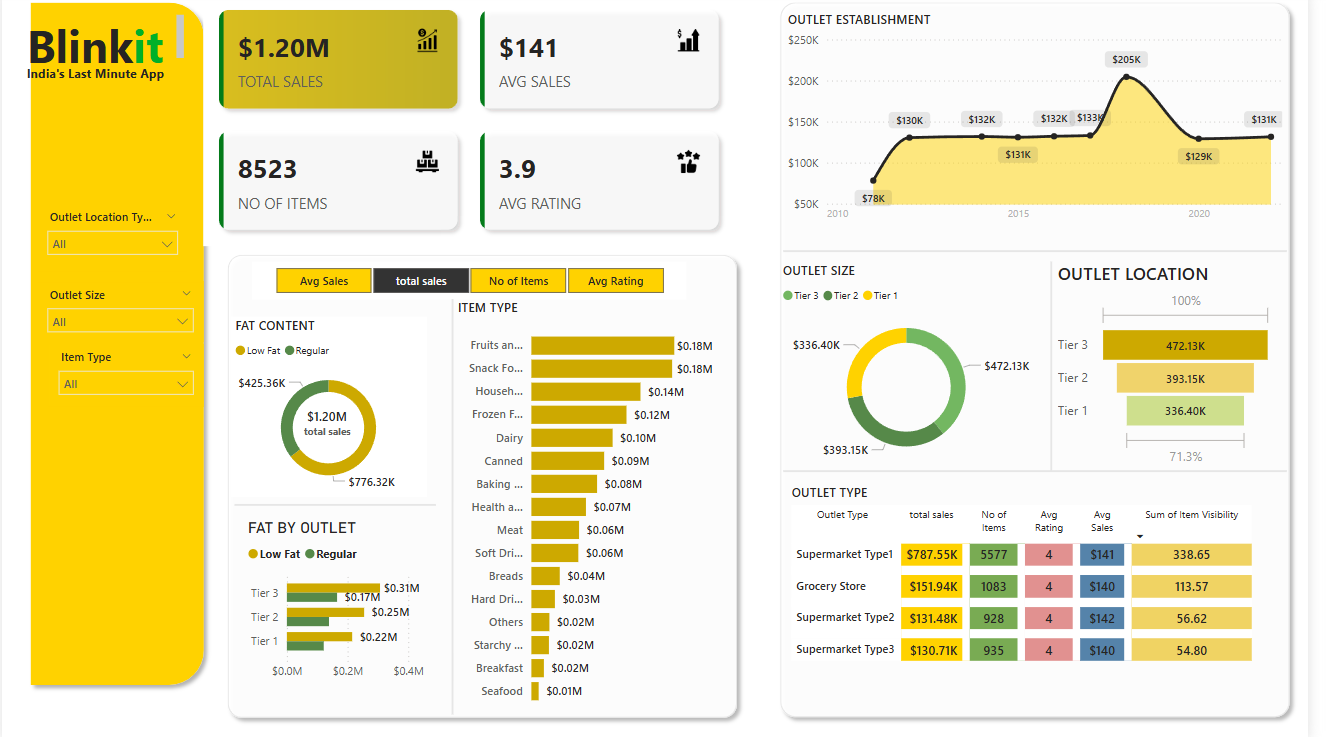

The dashboard page shown, as its layout file describes it:
{"tool":"powerbi","page":{"name":"Page 1","canvas":[1400,800],"ordinal":0},"visuals":[{"type":"shape","box":[21,0,204.1,750.4],"z":0},{"type":"textbox","box":[21,18,178.6,64.5],"z":1000},{"type":"textbox","box":[21,70.5,162.1,64.5],"z":2000},{"type":"cardVisual","fields":{"Data":["BlinkIT Grocery Data.total sales","BlinkIT Grocery Data.Avg Sales","BlinkIT Grocery Data.No of Items","BlinkIT Grocery Data.Avg Rating"]},"box":[216.1,0,570.3,270.2],"z":3000},{"type":"shape","box":[232.6,270.2,564.3,514.8],"z":4000},{"type":"donutChart","title":"FAT CONTENT","fields":{"Y":["BlinkIT Grocery Data.total sales"],"Category":["BlinkIT Grocery Data.Item Fat Content"]},"box":[244.6,345.2,210.1,193.6],"z":5000},{"type":"slicer","fields":{"Values":["Metrics.Metrics"]},"box":[268.7,286.7,465.3,40.5],"z":6000},{"type":"cardVisual","fields":{"Data":["BlinkIT Grocery Data.total sales"]},"box":[288.2,418.7,121.6,82.5],"z":7000},{"type":"clusteredBarChart","title":"FAT BY OUTLET","fields":{"Y":["BlinkIT Grocery Data.total sales"],"Category":["BlinkIT Grocery Data.Outlet Location Type"],"Series":["BlinkIT Grocery Data.Item Fat Content"]},"box":[258.1,561.3,211.6,183.1],"z":8000},{"type":"shape","box":[249.1,525.3,216.1,45],"z":9000},{"type":"shape","box":[465.3,327.2,36,445.8],"z":10000},{"type":"barChart","title":"ITEM TYPE","fields":{"Y":["BlinkIT Grocery Data.total sales"],"Category":["BlinkIT Grocery Data.Item Type"]},"box":[483.3,327.2,283.7,445.8],"z":11000},{"type":"shape","box":[825.5,0,564.3,785],"z":12000},{"type":"lineChart","title":"OUTLET ESTABLISHMENT","fields":{"Y":["BlinkIT Grocery Data.total sales"],"Category":["BlinkIT Grocery Data.Outlet Establishment Year"]},"box":[837.5,18,540.3,235.6],"z":13000},{"type":"shape","box":[837.5,253.6,540.3,45],"z":14000},{"type":"donutChart","title":"OUTLET SIZE","fields":{"Y":["BlinkIT Grocery Data.total sales"],"Category":["BlinkIT Grocery Data.Outlet Location Type"]},"box":[833,286.7,274.7,225.1],"z":15000},{"type":"shape","box":[1107.6,286.7,36,225.1],"z":16000},{"type":"funnel","title":"OUTLET LOCATION","fields":{"Y":["Sum(BlinkIT Grocery Data.Sales)"],"Category":["BlinkIT Grocery Data.Outlet Location Type"]},"box":[1127.1,286.7,240.1,225.1],"z":17000},{"type":"pivotTable","title":"OUTLET TYPE","fields":{"Values":["BlinkIT Grocery Data.total sales","BlinkIT Grocery Data.No of Items","BlinkIT Grocery Data.Avg Rating","BlinkIT Grocery Data.Avg Sales","Sum(BlinkIT Grocery Data.Item Visibility)"],"Rows":["BlinkIT Grocery Data.Outlet Type"]},"box":[842,525.3,531.3,244.6],"z":18000},{"type":"shape","box":[837.5,489.3,540.3,45],"z":19000},{"type":"slicer","fields":{"Values":["BlinkIT Grocery Data.Outlet Location Type"]},"box":[37.5,225.1,162.1,73.5],"z":20000},{"type":"slicer","fields":{"Values":["BlinkIT Grocery Data.Outlet Size"]},"box":[37.5,307.7,178.6,64.5],"z":20001},{"type":"slicer","fields":{"Values":["BlinkIT Grocery Data.Item Type"]},"box":[49.5,375.2,166.6,67.5],"z":20002}]}

Visuals, with their boxes in screenshot pixels (x1, y1, x2, y2), scaled from the page's 1400x800 canvas onto the 1326x737 screenshot:
shape: rect(20, 0, 213, 691)
textbox: rect(20, 17, 189, 76)
textbox: rect(20, 65, 173, 124)
cardVisual - BlinkIT Grocery Data.total sales x BlinkIT Grocery Data.Avg Sales: rect(205, 0, 745, 249)
shape: rect(220, 249, 755, 723)
"FAT CONTENT" donutChart: rect(232, 318, 431, 496)
slicer - Metrics.Metrics: rect(254, 264, 695, 301)
cardVisual - BlinkIT Grocery Data.total sales: rect(273, 386, 388, 462)
"FAT BY OUTLET" clusteredBarChart: rect(244, 517, 445, 686)
shape: rect(236, 484, 441, 525)
shape: rect(441, 301, 475, 712)
"ITEM TYPE" barChart: rect(458, 301, 726, 712)
shape: rect(782, 0, 1316, 723)
"OUTLET ESTABLISHMENT" lineChart: rect(793, 17, 1305, 234)
shape: rect(793, 234, 1305, 275)
"OUTLET SIZE" donutChart: rect(789, 264, 1049, 471)
shape: rect(1049, 264, 1083, 471)
"OUTLET LOCATION" funnel: rect(1068, 264, 1295, 471)
"OUTLET TYPE" pivotTable: rect(797, 484, 1301, 709)
shape: rect(793, 451, 1305, 492)
slicer - BlinkIT Grocery Data.Outlet Location Type: rect(36, 207, 189, 275)
slicer - BlinkIT Grocery Data.Outlet Size: rect(36, 283, 205, 343)
slicer - BlinkIT Grocery Data.Item Type: rect(47, 346, 205, 408)
